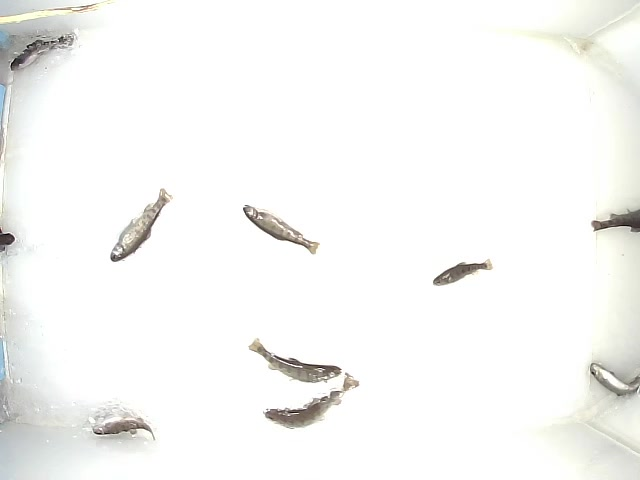fish: (262, 372, 363, 430), (108, 185, 174, 264), (237, 199, 322, 256), (247, 336, 342, 381), (7, 33, 76, 76), (91, 413, 163, 441), (586, 360, 640, 397), (431, 256, 494, 287)
